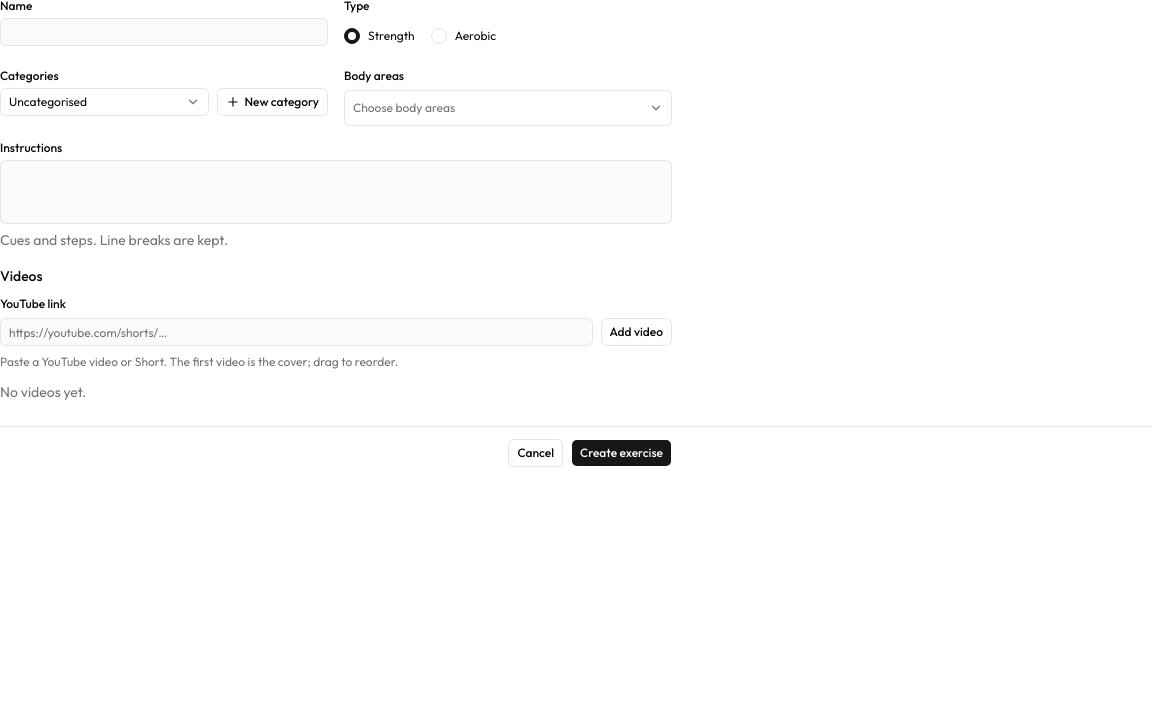
ExerciseForm › shows field errors and keeps what was typed
The width and height of the screenshot is (1152, 720).
Step 1. Type "Bridge" into the field labelled "Name" → point(164, 32), box [0,18,328,46]
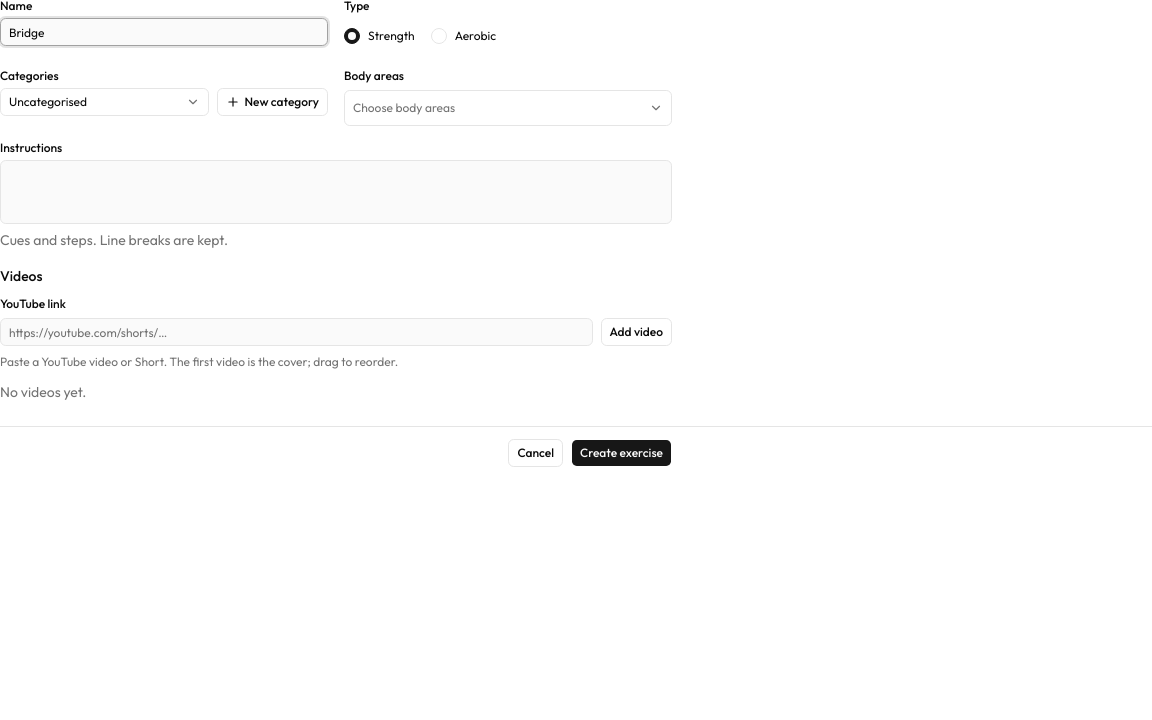
Step 2. Click the button named "Categories" → point(105, 102), box [0,88,210,116]
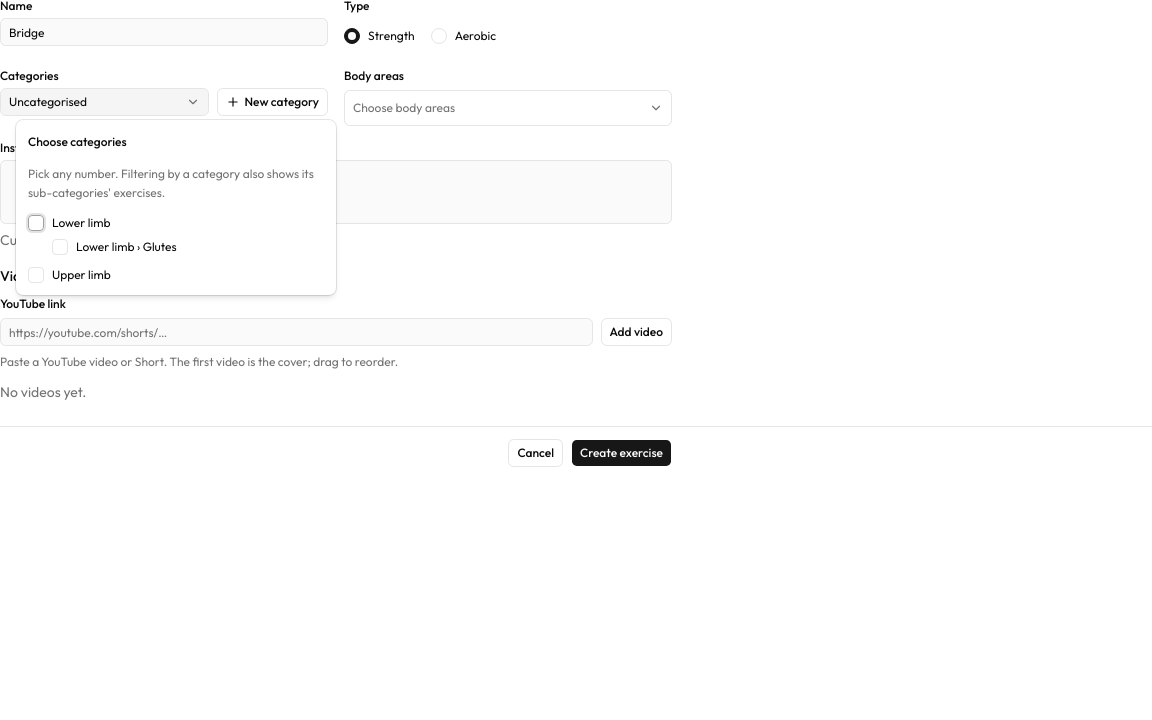
Step 3. Click the checkbox named "Upper limb" next to "Upper limb" → point(36, 274), box [28,266,44,282]
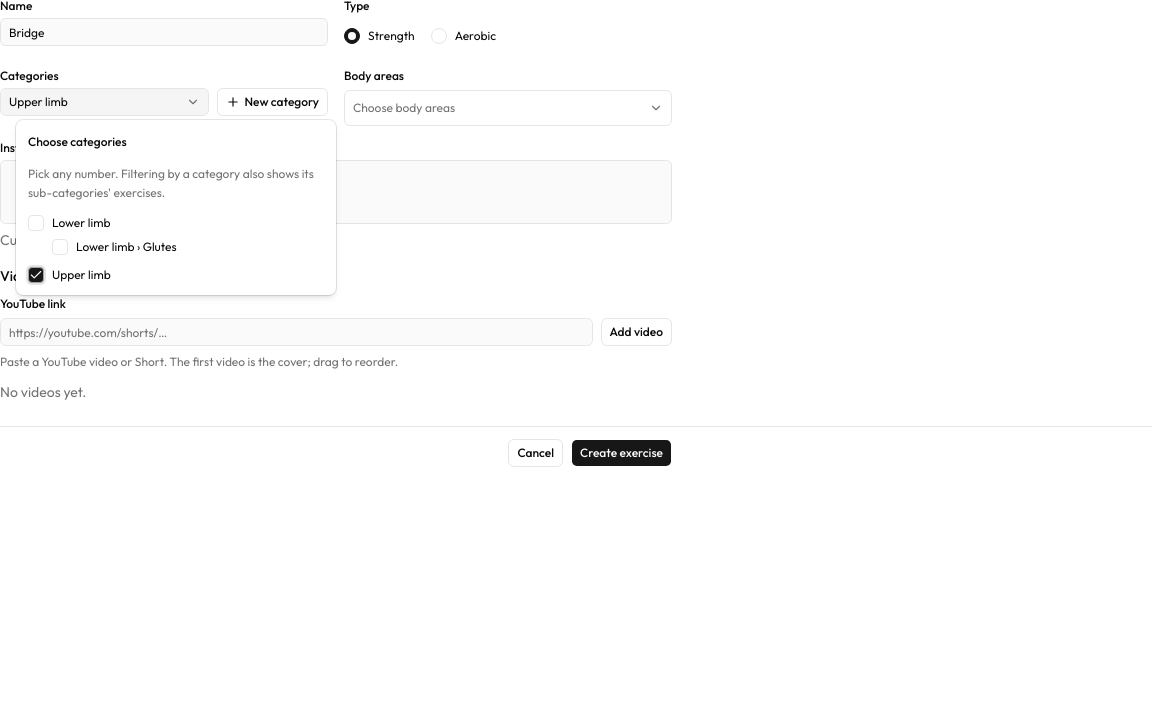
Step 4. Press Escape
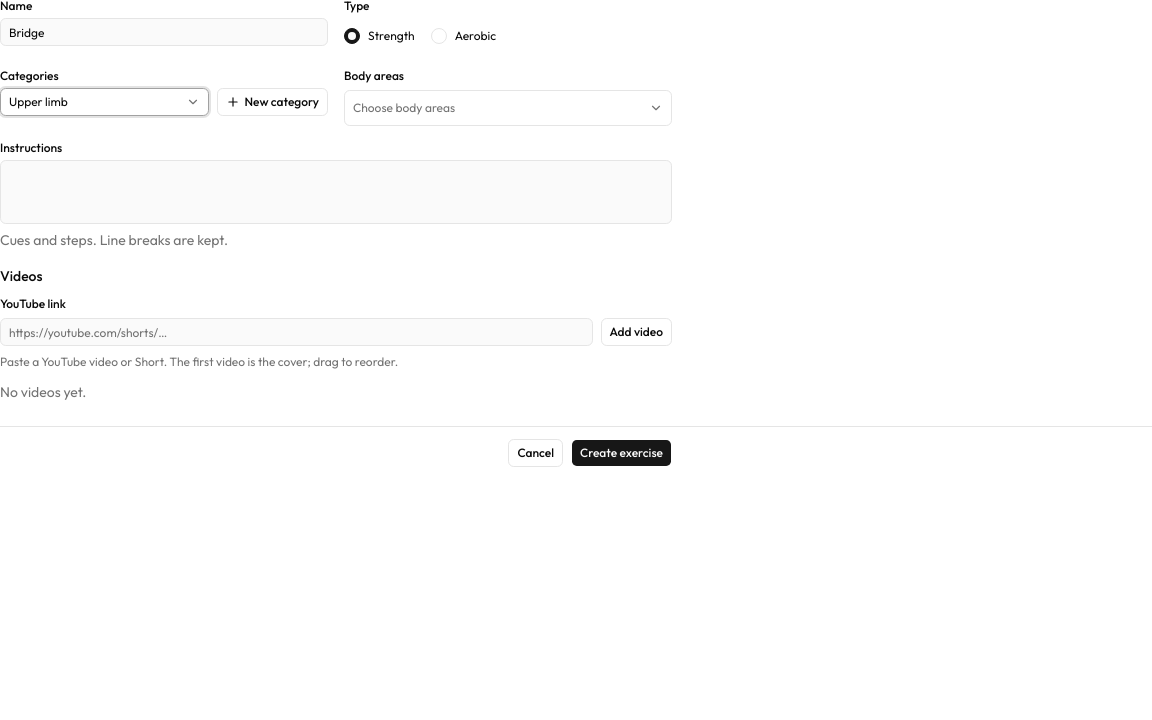
Step 5. Type "Slowly" into the text box labelled "Instructions" → point(336, 192), box [0,160,672,224]
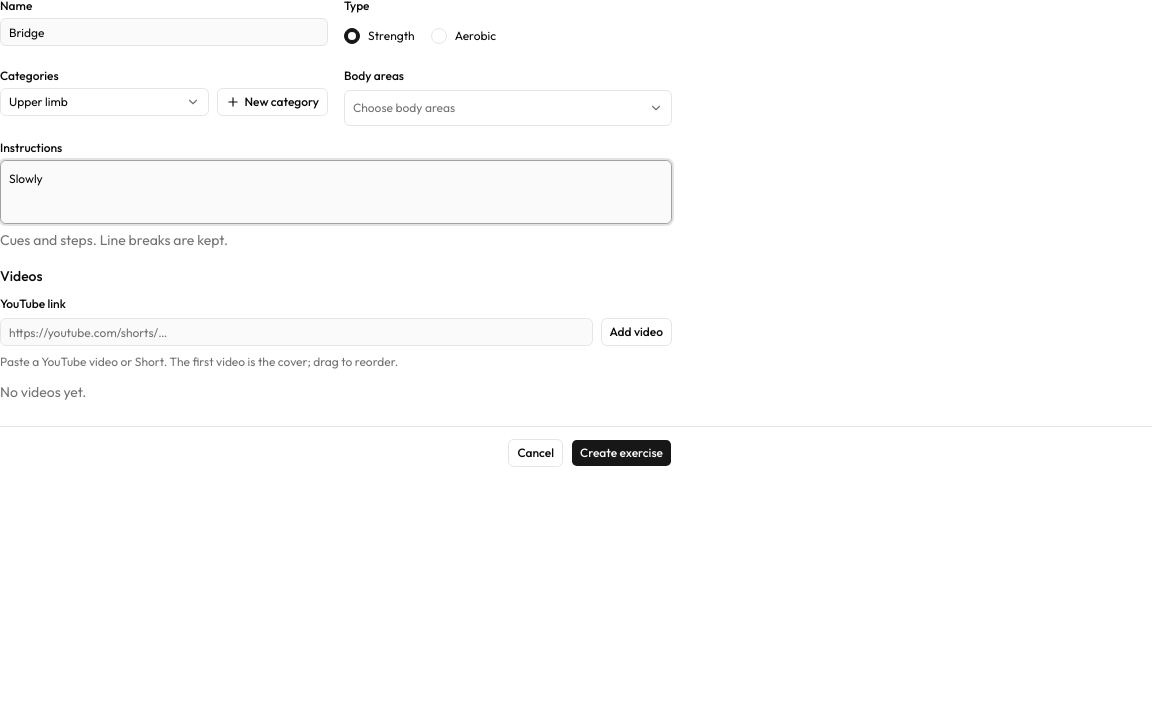
Step 6. Click the button "Create exercise" → point(622, 453), box [571,439,672,467]
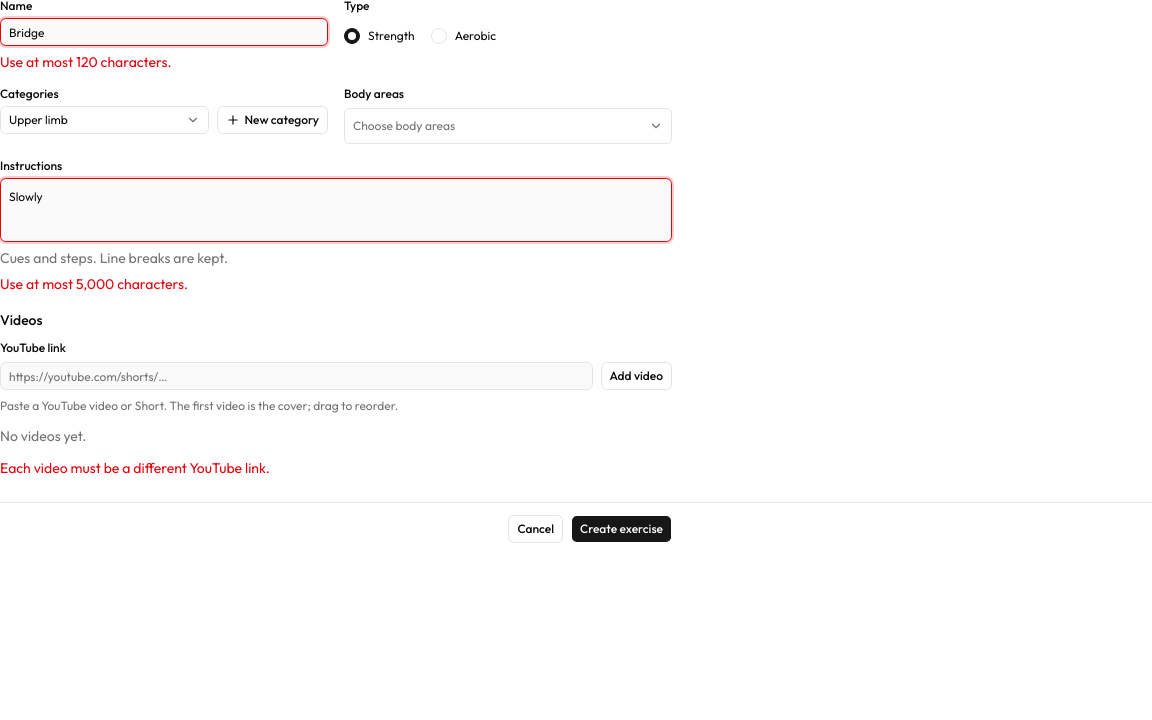
Check: the text "Use at most 120 characters." is shown, box [0,53,172,71]
Check: the text "Use at most 5,000 characters." is shown, box [0,275,188,293]
Check: the text "Each video must be a different YouTube link." is shown, box [0,459,270,477]
